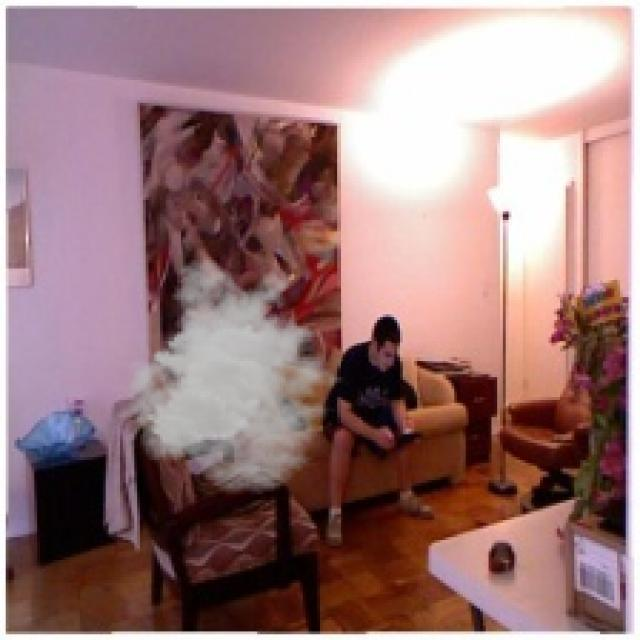Smoke: (120, 257, 354, 494)
